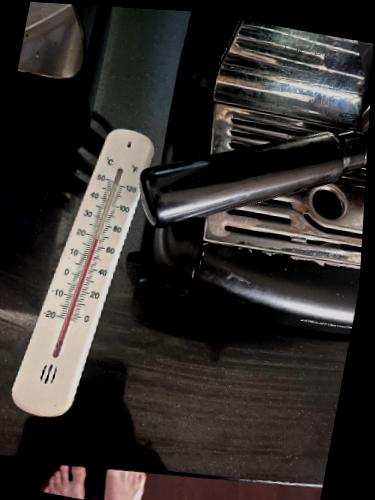thermo: (5, 121, 172, 423)
